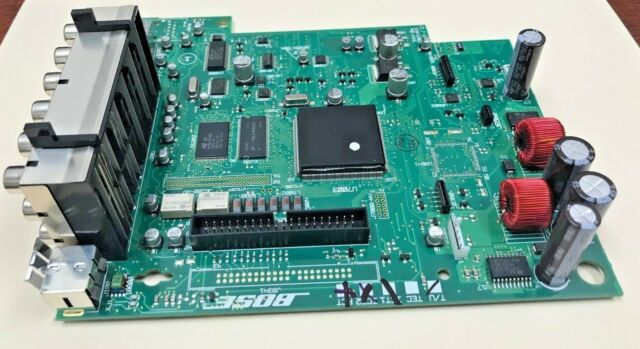capacitor: (542, 200, 602, 301), (497, 13, 551, 117), (537, 127, 596, 204), (560, 171, 616, 233)
